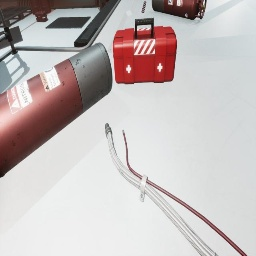FireExtinguisher ]: (98, 7, 100, 12)
FirstAidBox ,: (113, 18, 177, 84), (35, 11, 48, 22)
NitrogenTank ,: (0, 42, 112, 178), (152, 0, 206, 20)
